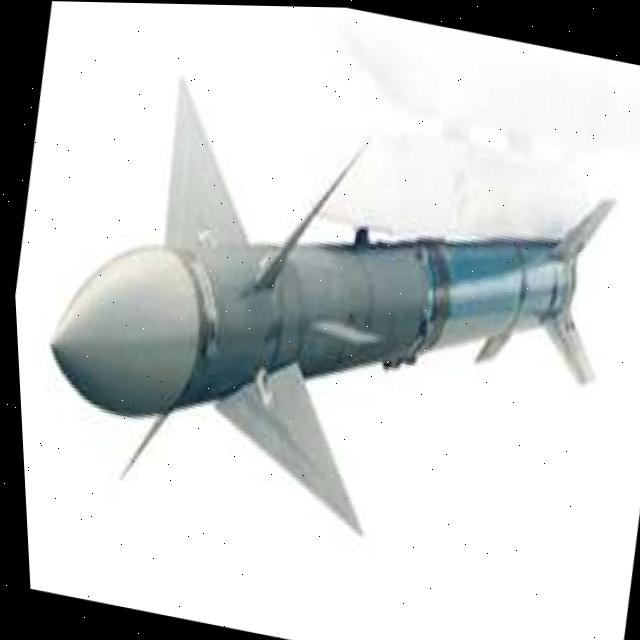missile: (12, 49, 639, 576)
